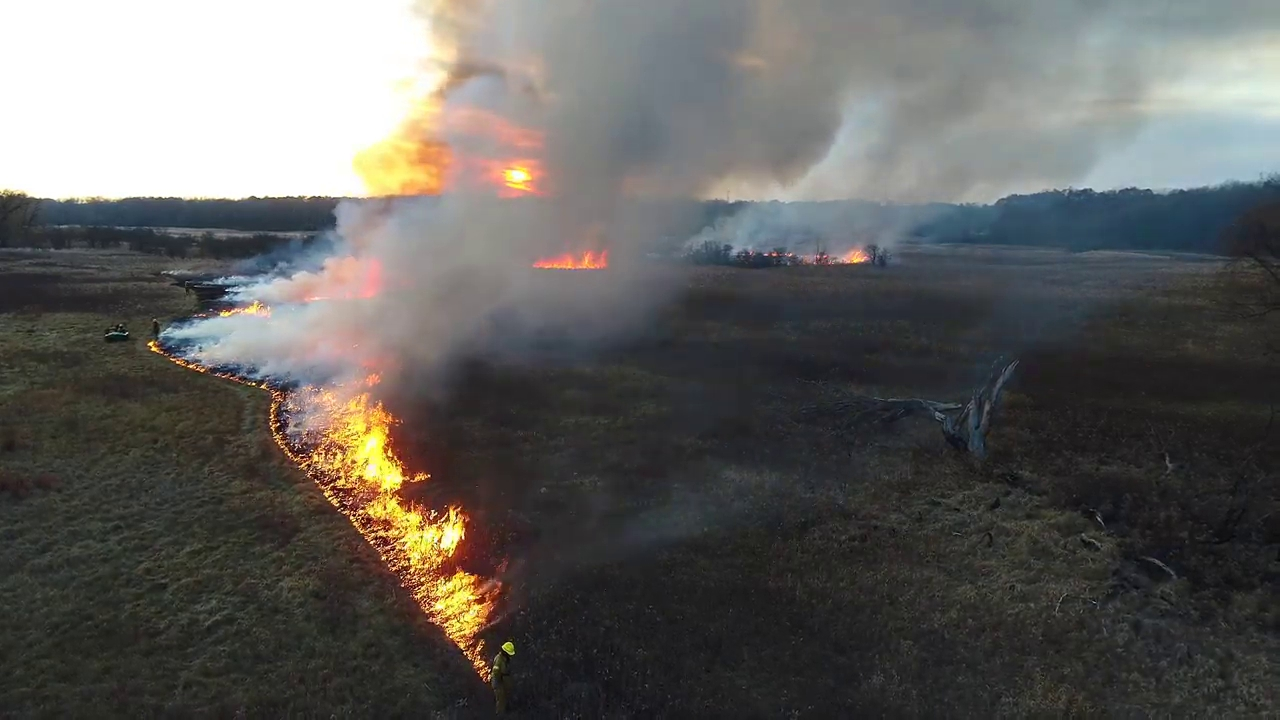forest_fire: (149, 341, 500, 678), (762, 246, 886, 266), (533, 252, 607, 270), (217, 300, 269, 316)
